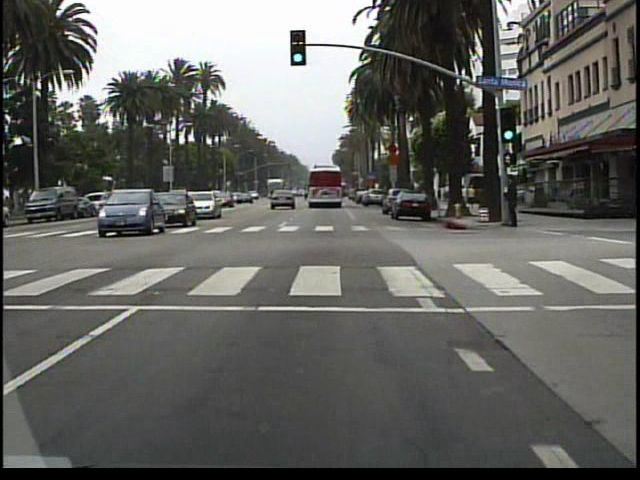person: (502, 174, 522, 230)
